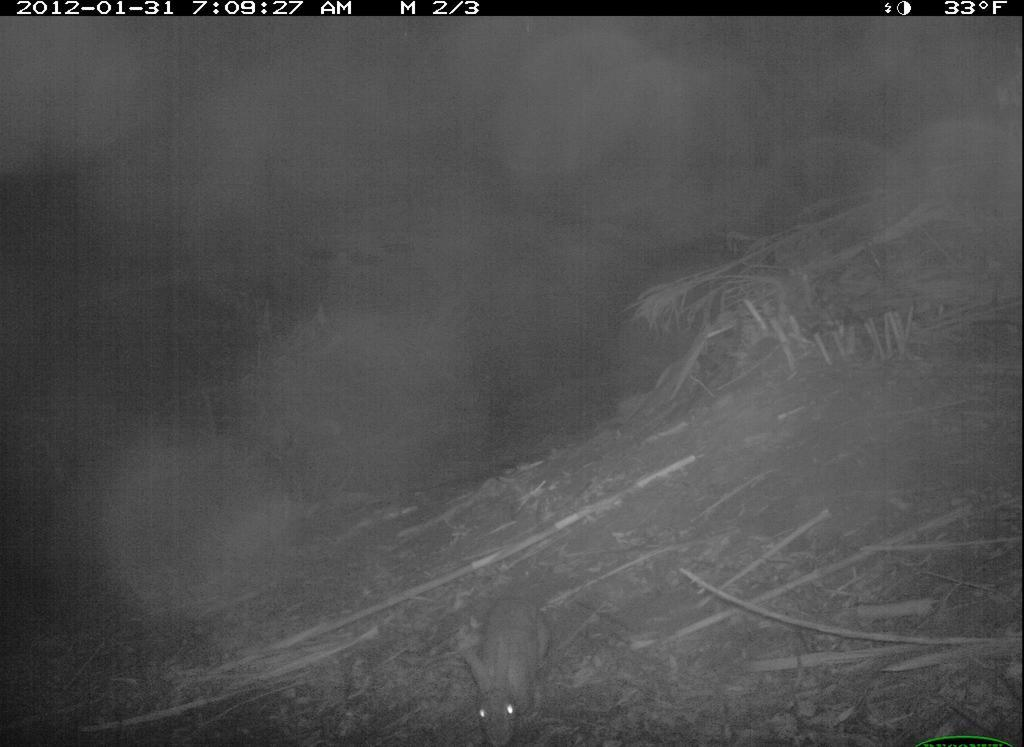rabbit: (463, 589, 553, 747)
